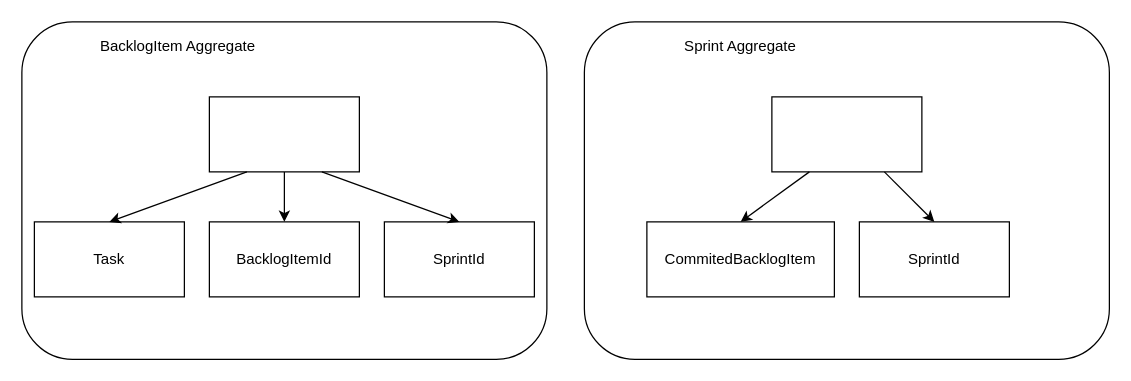
Image size: 1131x381. Some labels were removed from this diagram. Here are the shapes that lost their labels. From the top down, the box of each, then its label:
(208, 96, 359, 172): BacklogItem
(771, 96, 922, 172): Sprint
